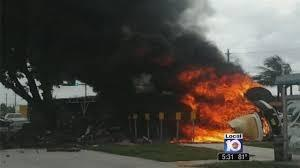fire: (177, 65, 272, 143)
